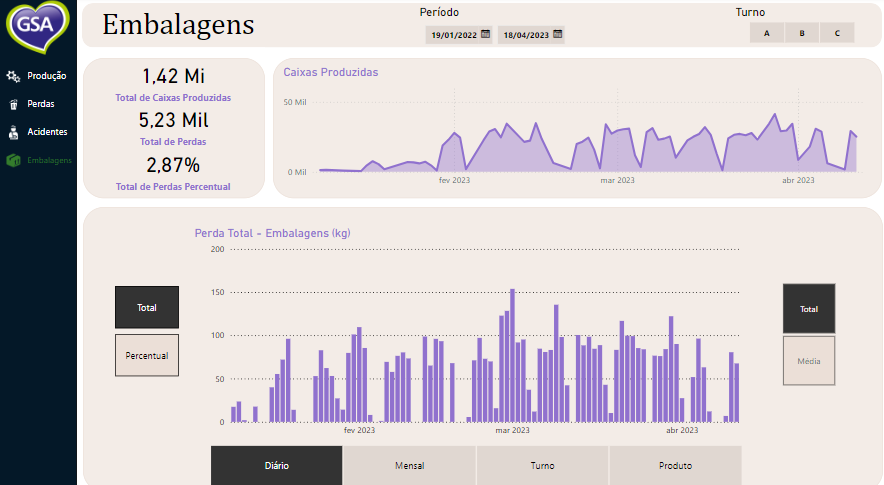

The dashboard page shown, as its layout file describes it:
{"tool":"powerbi","page":{"name":"Embalagens","canvas":[1280,720],"ordinal":3},"visuals":[{"type":"shape","box":[120.3,302,1152,410],"z":0},{"type":"shape","box":[120,8,1152,64],"z":1000},{"type":"slicer","title":"Turno","fields":{"Values":["0 - DIM_TURNO.Turno"]},"box":[1056,8,200,64],"z":2000},{"type":"shape","box":[0,0,112,720],"z":3000},{"type":"image","box":[0,0,112,88],"z":4000},{"type":"shape","box":[120.3,87.8,261.7,202],"z":5000},{"type":"card","fields":{"Values":["Sum(4 - FACT_PRODUTO_EMBALAGEM - PERDAS (2).PRODUÇÃO CAIXAS)"]},"box":[143.1,87.8,216,64.1],"z":6000},{"type":"card","fields":{"Values":["_Medidas_SUMX.Total de Perdas Percentual"]},"box":[143.1,216,216,64.1],"z":7000},{"type":"textbox","box":[143.1,7.9,252,64.1],"z":8000},{"type":"image","box":[6.1,140,30,30],"z":9000},{"type":"textbox","box":[36,140,75,30],"z":10000},{"type":"textbox","box":[36.1,220,83.9,30],"z":11000},{"type":"image","box":[6,100,30,30],"z":12000},{"type":"textbox","box":[36,100,75,30],"z":13000},{"type":"textbox","box":[36,180,76,30],"z":14000},{"type":"image","box":[6,220,30,30],"z":15000},{"type":"image","box":[6,180,30,30],"z":16000},{"type":"clusteredColumnChart","title":"Perda Total - Embalagens (kg)","fields":{"Category":["4 - FACT_PRODUTO_EMBALAGEM - PERDAS (2).DATA"],"Y":["_Medidas_SUMX.Total de Perdas"]},"box":[277.1,329.4,816,312],"z":17000},{"type":"slicer","fields":{"Values":["slicerPercentual.tipo"]},"box":[1102.7,405.5,124.5,160],"z":19000},{"type":"slicer","title":"Período","fields":{"Values":["dCalendario.Column1"]},"box":[600,11,256,64],"z":20000},{"type":"slicer","fields":{"Values":["Parâmetro.Parâmetro"]},"box":[280,640,813.6,71.8],"z":21000},{"type":"shape","title":"aaa","box":[166.4,485.5,91.8,60.9],"z":23000},{"type":"shape","title":"aaa","box":[166.4,415.5,91.8,60.9],"z":24000},{"type":"card","fields":{"Values":["_Medidas_SUMX.Total de Perdas"]},"box":[143.1,151.9,216,64.1],"z":26000},{"type":"areaChart","title":"Caixas Produzidas","fields":{"Category":["4 - FACT_PRODUTO_EMBALAGEM - PERDAS (2).DATA"],"Y":["Sum(4 - FACT_PRODUTO_EMBALAGEM - PERDAS (2).PRODUÇÃO CAIXAS)"]},"box":[395.1,87.8,877.2,202],"z":27000},{"type":"actionButton","box":[4.8,135.9,106.3,32.6],"z":28000},{"type":"actionButton","box":[5.7,178.1,106.3,32.6],"z":29000},{"type":"actionButton","box":[4.8,98.6,106.3,32.6],"z":30000}]}

Visuals, with their boxes on the page's 1280x720 design canvas (x1, y1, x2, y2). These are canvas units, not pixel positions in the 884x485 screenshot, which may show the page scaled, cropped or inside an application window:
shape: x1=120 y1=302 x2=1272 y2=712
shape: x1=120 y1=8 x2=1272 y2=72
"Turno" slicer: x1=1056 y1=8 x2=1256 y2=72
shape: x1=0 y1=0 x2=112 y2=720
image: x1=0 y1=0 x2=112 y2=88
shape: x1=120 y1=88 x2=382 y2=290
card - Sum(4 - FACT_PRODUTO_EMBALAGEM - PERDAS (2).PRODUÇÃO CAIXAS): x1=143 y1=88 x2=359 y2=152
card - _Medidas_SUMX.Total de Perdas Percentual: x1=143 y1=216 x2=359 y2=280
textbox: x1=143 y1=8 x2=395 y2=72
image: x1=6 y1=140 x2=36 y2=170
textbox: x1=36 y1=140 x2=111 y2=170
textbox: x1=36 y1=220 x2=120 y2=250
image: x1=6 y1=100 x2=36 y2=130
textbox: x1=36 y1=100 x2=111 y2=130
textbox: x1=36 y1=180 x2=112 y2=210
image: x1=6 y1=220 x2=36 y2=250
image: x1=6 y1=180 x2=36 y2=210
"Perda Total - Embalagens (kg)" clusteredColumnChart: x1=277 y1=329 x2=1093 y2=641
slicer - slicerPercentual.tipo: x1=1103 y1=406 x2=1227 y2=566
"Período" slicer: x1=600 y1=11 x2=856 y2=75
slicer - Parâmetro.Parâmetro: x1=280 y1=640 x2=1094 y2=712
"aaa" shape: x1=166 y1=486 x2=258 y2=546
"aaa" shape: x1=166 y1=416 x2=258 y2=476
card - _Medidas_SUMX.Total de Perdas: x1=143 y1=152 x2=359 y2=216
"Caixas Produzidas" areaChart: x1=395 y1=88 x2=1272 y2=290
actionButton: x1=5 y1=136 x2=111 y2=168
actionButton: x1=6 y1=178 x2=112 y2=211
actionButton: x1=5 y1=99 x2=111 y2=131
